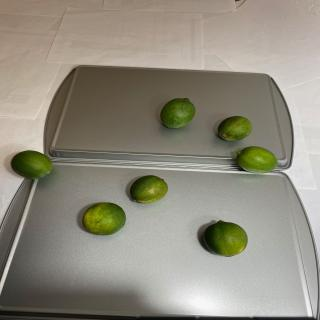Lemon: (203, 220, 248, 257), (82, 202, 126, 235), (236, 146, 278, 174), (160, 98, 196, 128), (130, 175, 168, 203), (218, 115, 252, 142)
